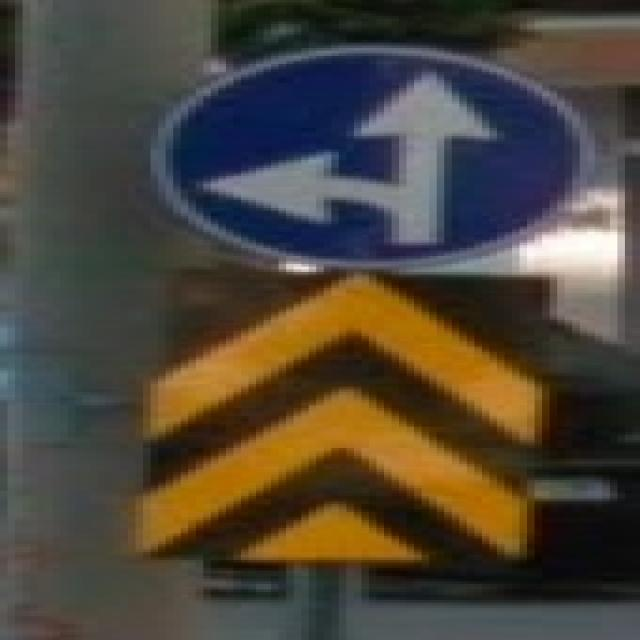Straight or Left: (148, 48, 584, 266)
